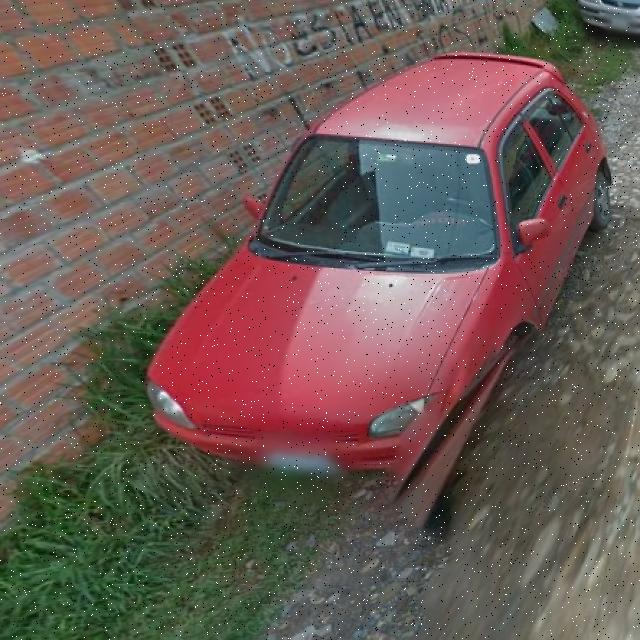cars: (77, 98, 634, 463)
